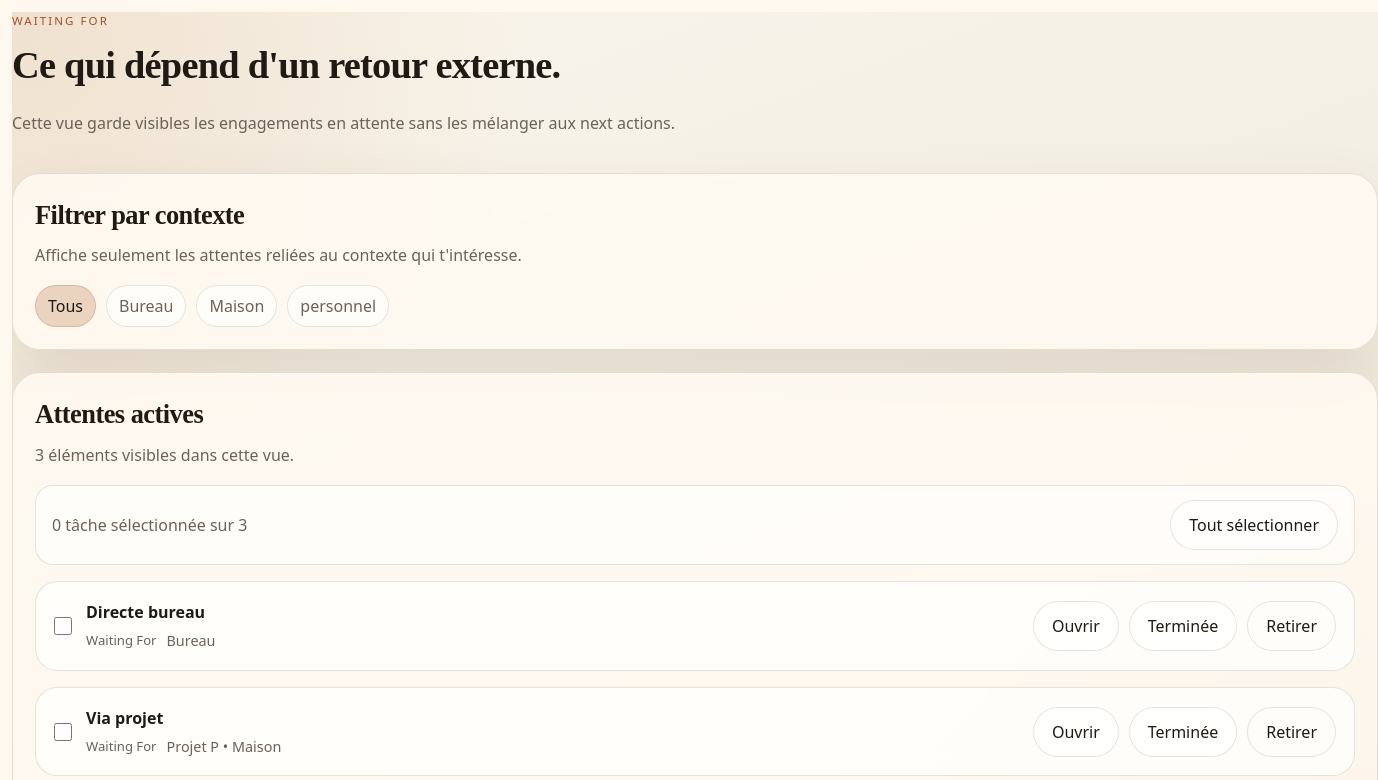
Test: BucketTaskListPage › contextFilter › filters by direct and project-inherited contexts and marks the active chip
This screenshot has width=1378, height=780.
Expected: the text "Directe bureau" is shown, 86,601 -> 205,623
Click the button "Maison" at (237, 306), box 196,286 -> 277,328
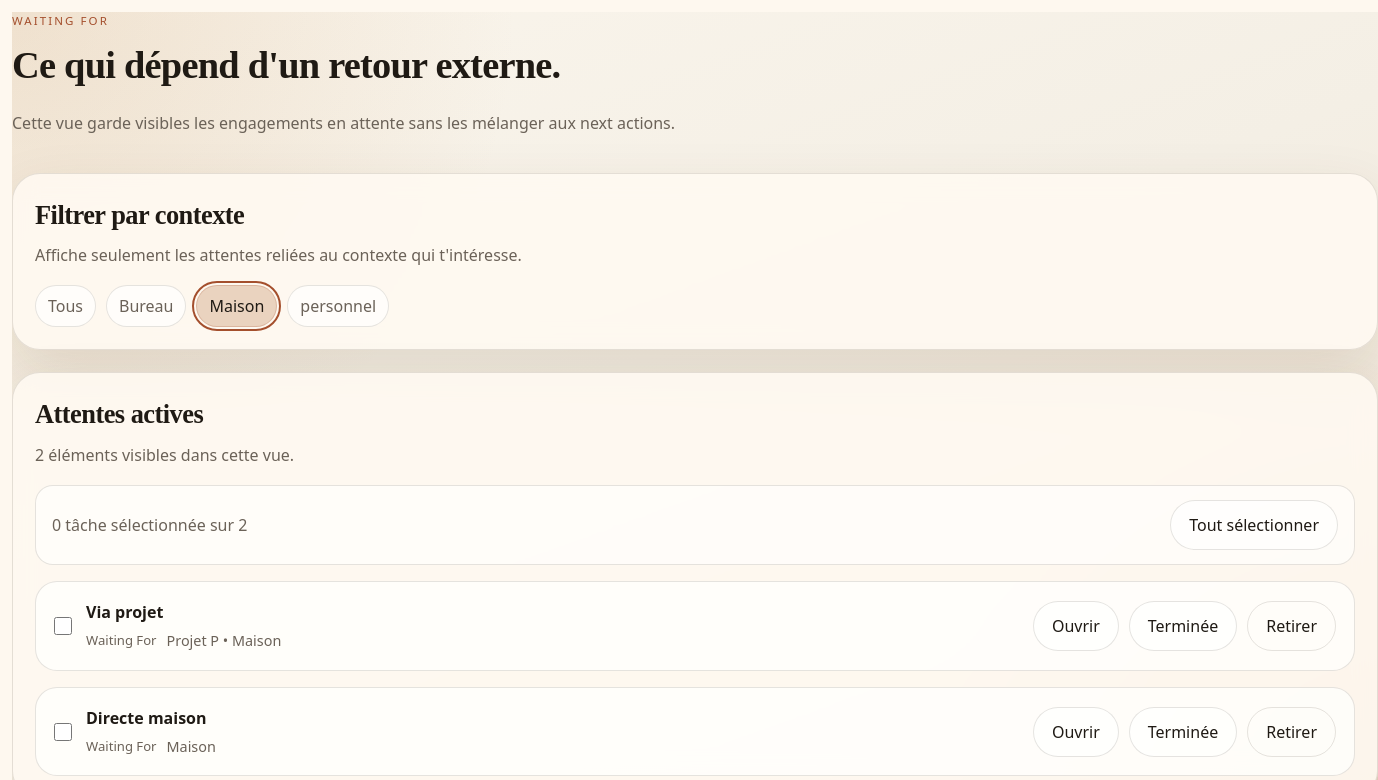
Expected: the text "Directe maison" is shown, 86,707 -> 206,729
Expected: the button "Directe bureau" is gone
Click the button "Tous" at (66, 306), box 35,286 -> 96,328
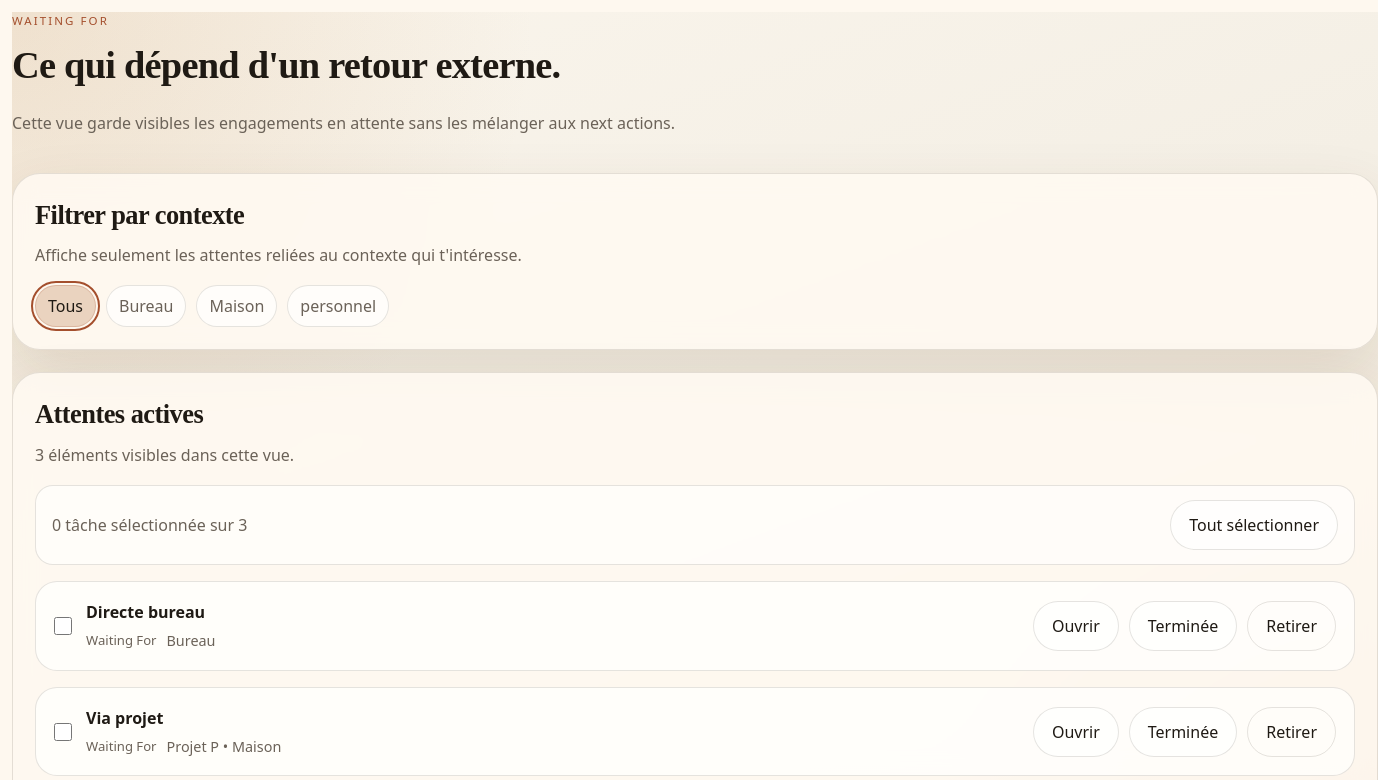
Expected: the text "Directe bureau" is shown, 86,601 -> 205,623
